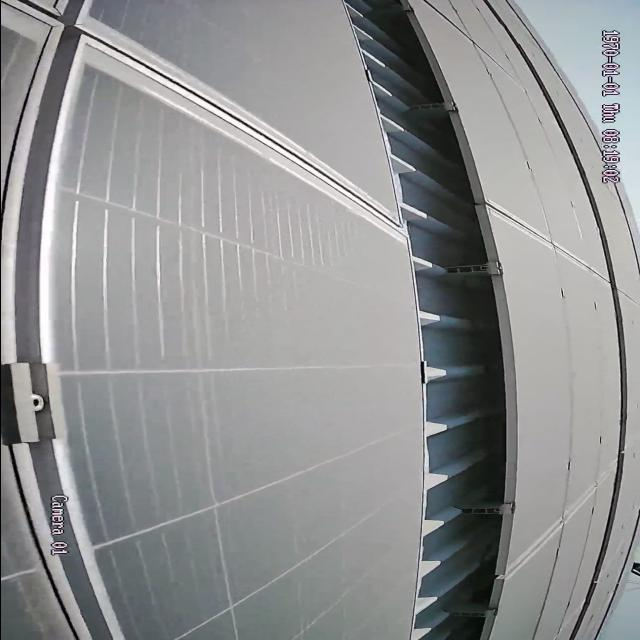interior panel: (0, 13, 387, 640), (515, 471, 607, 582), (502, 208, 601, 280)
outher panel: (346, 0, 520, 640)
